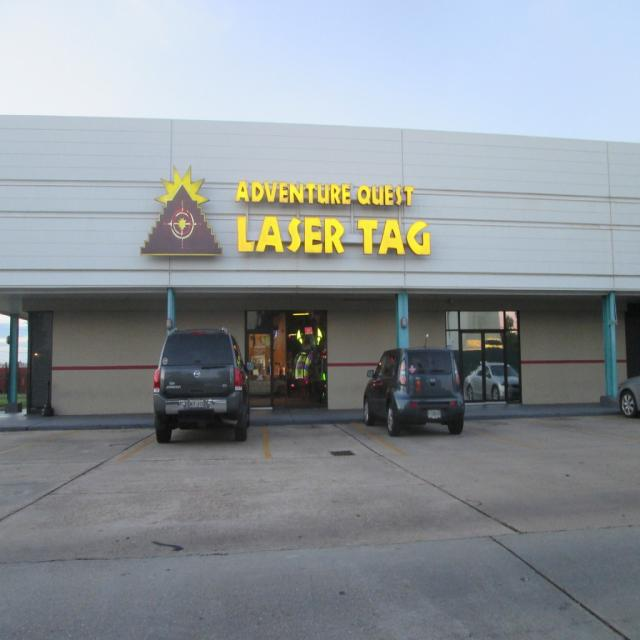car: (153, 326, 253, 442), (362, 332, 464, 435)
